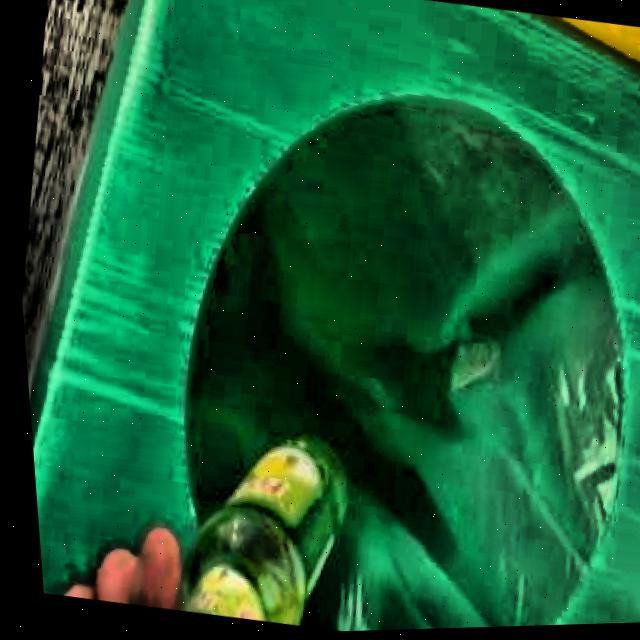glass: (171, 442, 337, 627)
